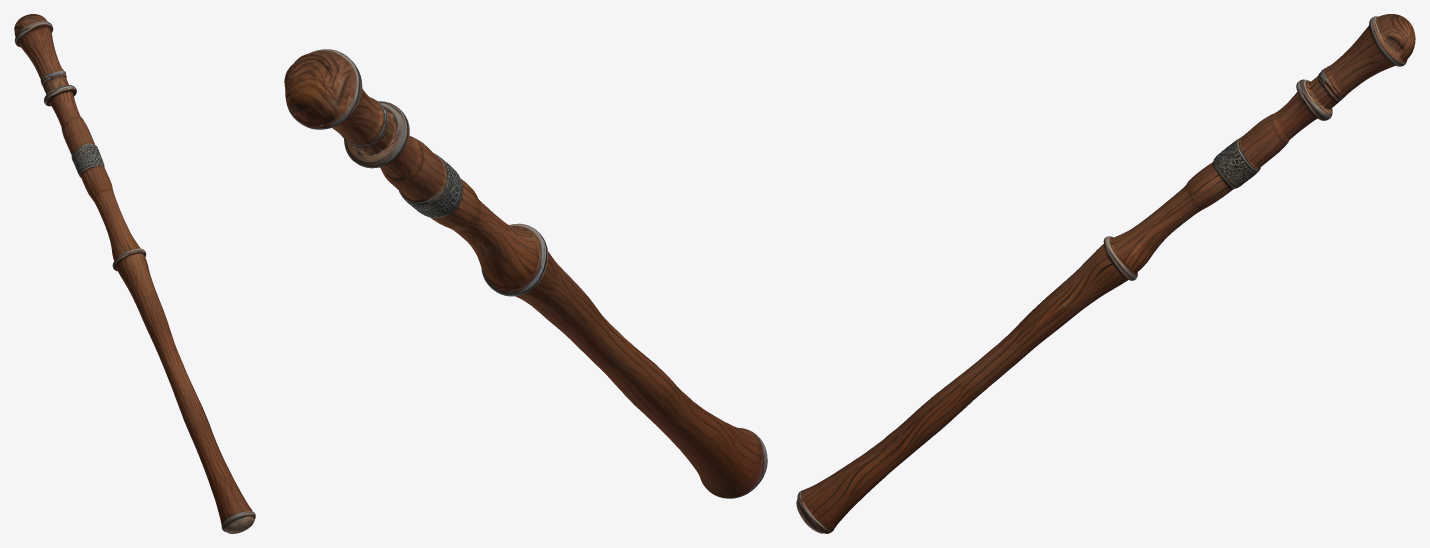
File: detailed_realistic_model_magic_01.glb
3 views of the same model, side by side, from view 1: azimuth 30°, elevation 25°; view 2: azimuth 150°, elevation 25°; view 3: azimuth 270°, elevation 25° (orthographic). The views are drawn at different scales.
Visible parts, largest first — view 1: tripo_node_3832b814-bdc5-4126-9f2b-76e7a1316ba5; view 2: tripo_node_3832b814-bdc5-4126-9f2b-76e7a1316ba5; view 3: tripo_node_3832b814-bdc5-4126-9f2b-76e7a1316ba5.
Part boxes in pixels (x1,y1,x2,y2): tripo_node_3832b814-bdc5-4126-9f2b-76e7a1316ba5: (14, 14, 255, 533); tripo_node_3832b814-bdc5-4126-9f2b-76e7a1316ba5: (284, 49, 767, 498); tripo_node_3832b814-bdc5-4126-9f2b-76e7a1316ba5: (796, 14, 1415, 533).
Size of the model in its own units: 0.0933 by 0.916 by 1.
1 material, 1 textured.
